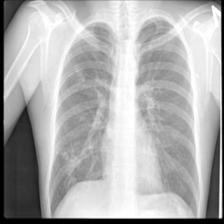tuberculosis: (46, 12, 207, 219)
